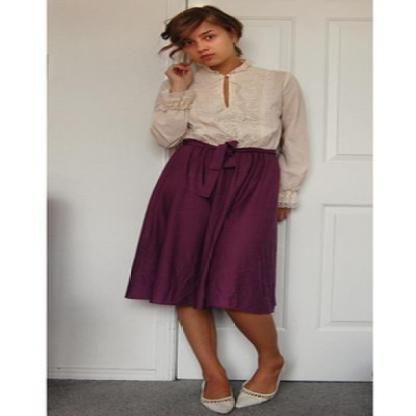shirt: (149, 62, 311, 207)
shoe: (201, 379, 297, 413)
skirt: (125, 138, 283, 318)
